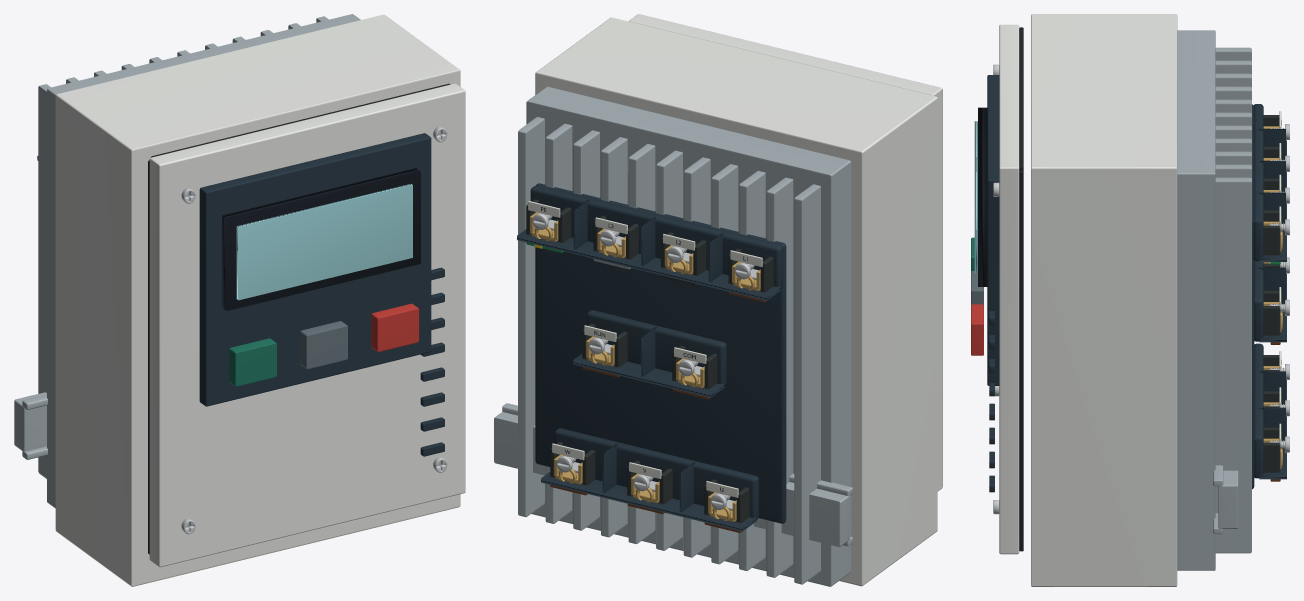
The model's file is vfd_default.glb.
The picture shows the model from 3 angles, left to right: view 1: azimuth 30°, elevation 25°; view 2: azimuth 150°, elevation 25°; view 3: azimuth 270°, elevation 25°; orthographic projection. The views are drawn at different scales.
Visible parts, largest first — view 1: part:cover, part:body, part:cover · Original a463fd81, part:display, part:body · Original 2a8198d3, part:mounting · Original 2a8198d3, part:body.003, part:body.002, part:body.001, detail:enclosure-gasket-and-fixings · Detail rubber gasket, detail:enclosure-gasket-and-fixings · Detail zinc plated fix; view 2: part:body · Original 2a8198d3, part:body, part:terminals · Original a463fd81, part:cover, part:mounting · Original 2a8198d3, detail:terminal-clamp:L2 · Detail moulded engineering polyme, detail:terminal-clamp:U · Detail moulded engineering polymer, detail:terminal-clamp:L1 · Detail moulded engineering polyme, detail:terminal-clamp:RUN · Detail moulded engineering polym, detail:terminal-clamp:PE · Detail moulded engineering polyme, detail:terminal-clamp:W · Detail moulded engineering polymer, detail:terminal-clamp:L3 · Detail moulded engineering polyme (+2 smaller); view 3: part:body, part:body · Original 2a8198d3, part:cover, part:terminals · Original a463fd81, part:cover · Original a463fd81, detail:enclosure-gasket-and-fixings · Detail rubber gasket, part:display, part:mounting · Original 2a8198d3, detail:terminal-clamp:PE · Detail moulded engineering polyme, detail:terminal-clamp:W · Detail moulded engineering polymer, detail:terminal-clamp:RUN · Detail moulded engineering polym, part:body.003.
Part boxes in pixels (left/top/right/bottom): part:cover: left=149, top=83, right=465, bottom=567; part:body: left=55, top=14, right=460, bottom=586; part:cover · Original a463fd81: left=199, top=133, right=444, bottom=456; part:display: left=222, top=168, right=420, bottom=310; part:body · Original 2a8198d3: left=38, top=14, right=360, bottom=508; part:mounting · Original 2a8198d3: left=14, top=392, right=47, bottom=459; part:body.003: left=371, top=303, right=419, bottom=351; part:body.002: left=300, top=321, right=347, bottom=369; part:body.001: left=229, top=338, right=276, bottom=386; detail:enclosure-gasket-and-fixings · Detail rubber gasket: left=148, top=83, right=450, bottom=554; detail:enclosure-gasket-and-fixings · Detail zinc plated fix: left=181, top=126, right=447, bottom=534; part:body · Original 2a8198d3: left=518, top=86, right=851, bottom=586; part:body: left=535, top=17, right=937, bottom=586; part:terminals · Original a463fd81: left=517, top=183, right=786, bottom=531; part:cover: left=629, top=14, right=942, bottom=491; part:mounting · Original 2a8198d3: left=494, top=403, right=852, bottom=546; detail:terminal-clamp:L2 · Detail moulded engineering polyme: left=661, top=232, right=706, bottom=285; detail:terminal-clamp:U · Detail moulded engineering polymer: left=704, top=479, right=749, bottom=523; detail:terminal-clamp:L1 · Detail moulded engineering polyme: left=728, top=248, right=773, bottom=292; detail:terminal-clamp:RUN · Detail moulded engineering polym: left=582, top=323, right=627, bottom=367; detail:terminal-clamp:PE · Detail moulded engineering polyme: left=526, top=199, right=571, bottom=243; detail:terminal-clamp:W · Detail moulded engineering polymer: left=550, top=442, right=595, bottom=485; detail:terminal-clamp:L3 · Detail moulded engineering polyme: left=593, top=216, right=638, bottom=259; part:body: left=1031, top=14, right=1177, bottom=586; part:body · Original 2a8198d3: left=1177, top=30, right=1251, bottom=570; part:cover: left=999, top=24, right=1019, bottom=554; part:terminals · Original a463fd81: left=1252, top=104, right=1286, bottom=489; part:cover · Original a463fd81: left=987, top=75, right=999, bottom=492; detail:enclosure-gasket-and-fixings · Detail rubber gasket: left=1019, top=27, right=1023, bottom=551; part:display: left=974, top=107, right=987, bottom=286; part:mounting · Original 2a8198d3: left=1213, top=465, right=1238, bottom=534; detail:terminal-clamp:PE · Detail moulded engineering polyme: left=1263, top=210, right=1280, bottom=255; detail:terminal-clamp:W · Detail moulded engineering polymer: left=1263, top=427, right=1280, bottom=472; detail:terminal-clamp:RUN · Detail moulded engineering polym: left=1263, top=290, right=1280, bottom=335; part:body.003: left=971, top=304, right=983, bottom=355.
Bounding box in the file's own units: 1.25 × 1.49 × 1.03.
